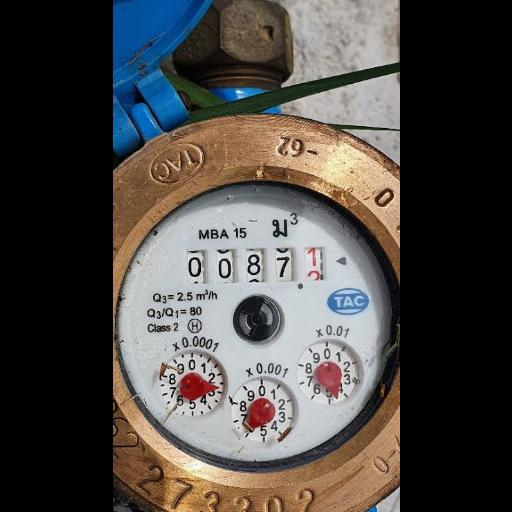0: (215, 249, 234, 284), (186, 251, 205, 284)
1: (302, 246, 326, 283)
7: (273, 248, 297, 283)
8: (244, 248, 266, 283)
border_water_meter_number: (181, 243, 329, 287)
